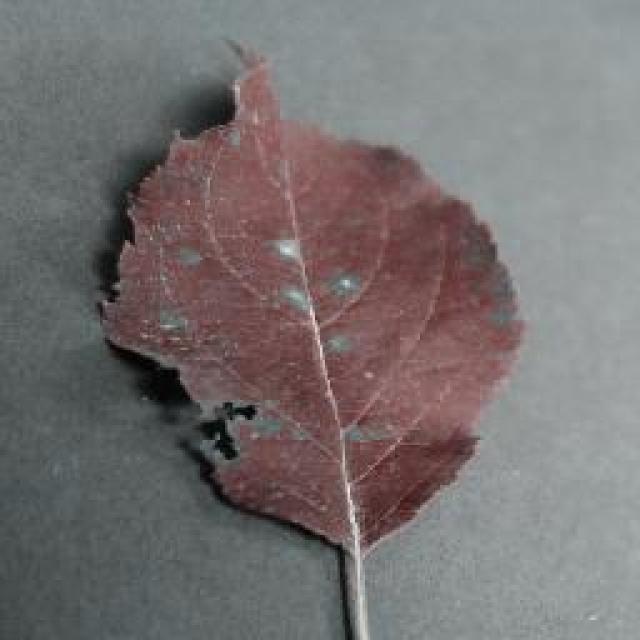apple healthy: (95, 35, 525, 560)
